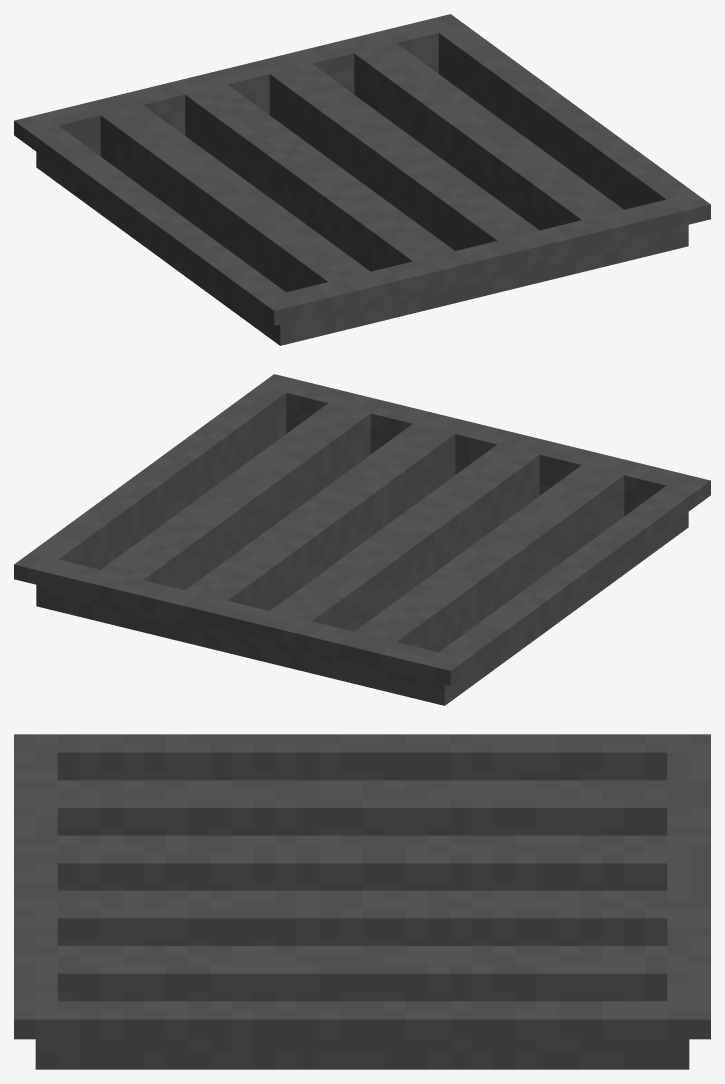
File: lvl1-29.obj
3 views of the same model, one above another, from view 1: azimuth 30°, elevation 25°; view 2: azimuth 150°, elevation 25°; view 3: azimuth 270°, elevation 25° (orthographic). The views are drawn at different scales.
Bounding box in the file's own units: 3.1 × 0.3 × 3.2.
1 material, 1 textured.
